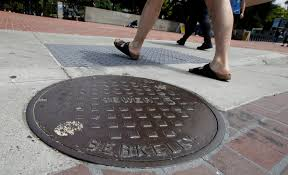Manhole-Closed: (25, 69, 235, 172)
human: (110, 1, 247, 81)
